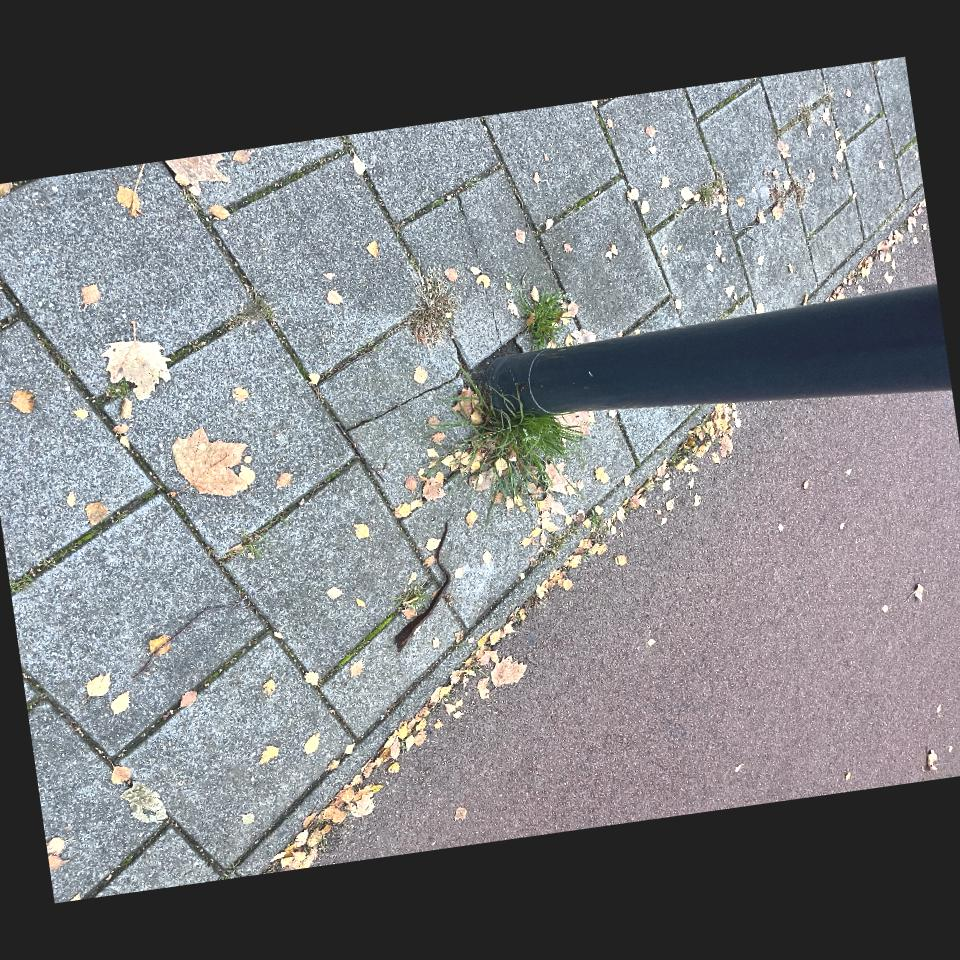weed: (510, 488, 635, 610), (420, 494, 478, 544)
